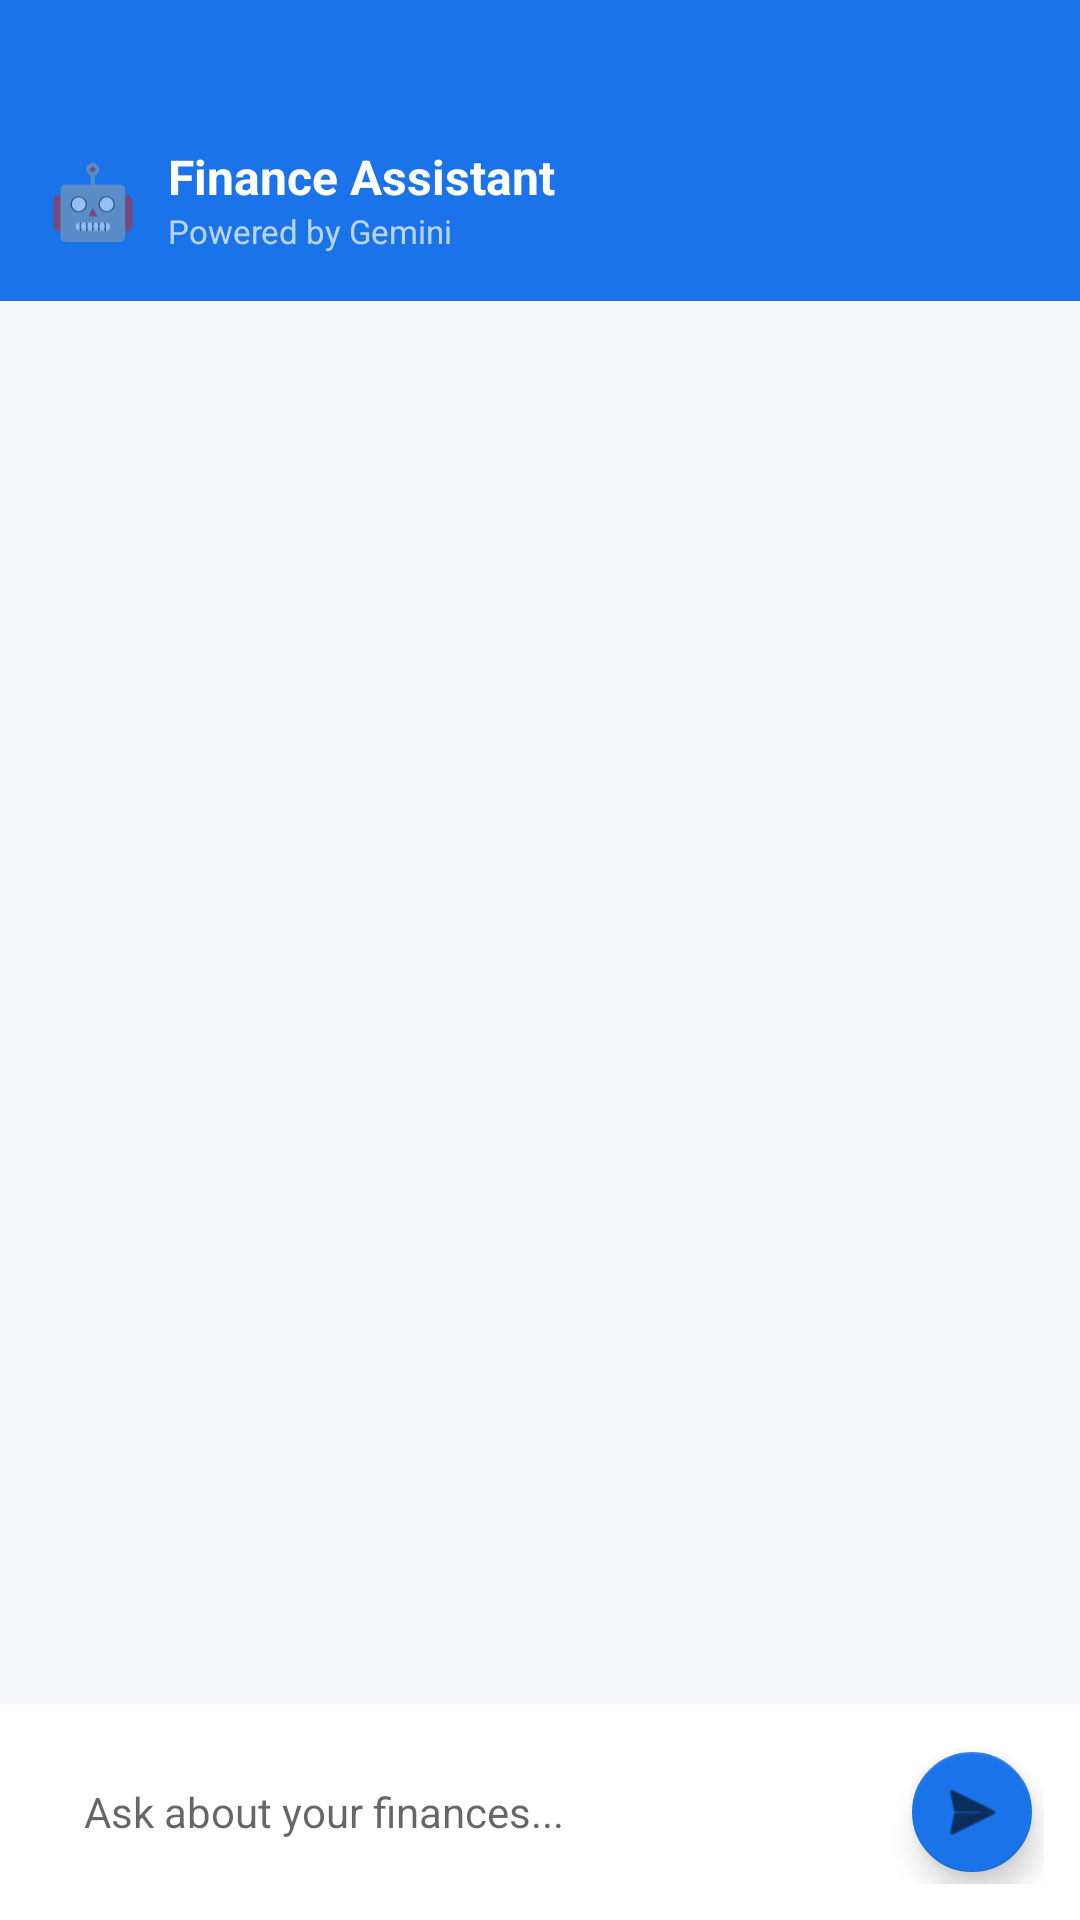

Icons on this 1080w x 1920h Android screen, each with the point to tap as point (x, y):
send: point (973, 1818)
